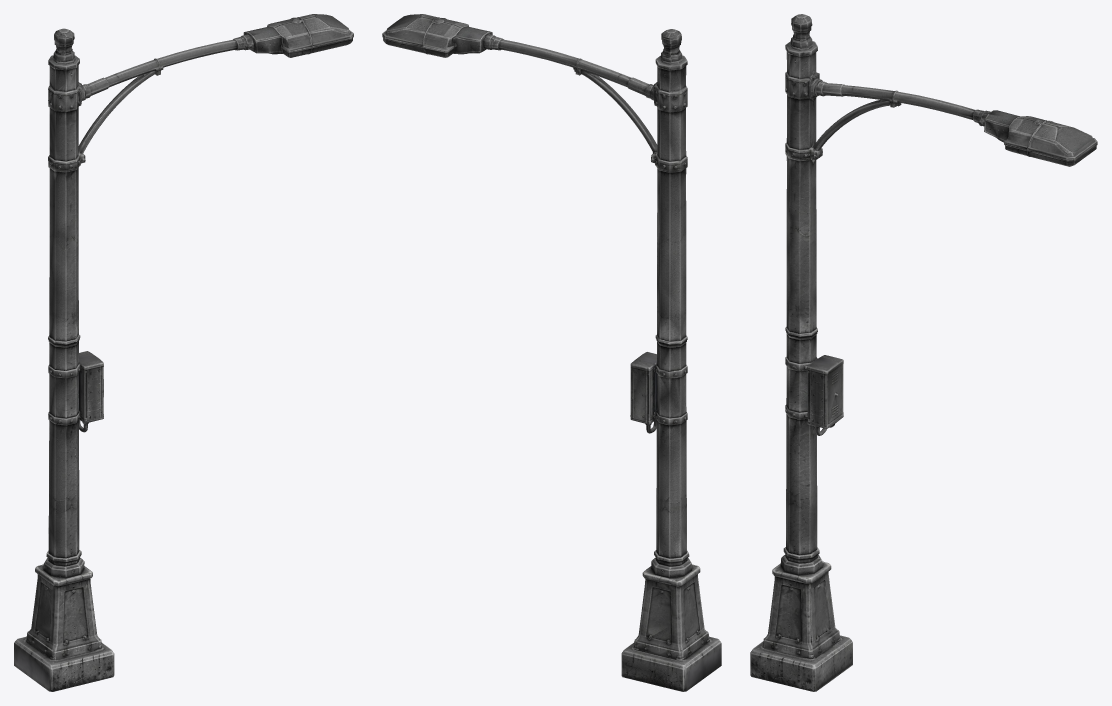
3 renders of one model, left to right at view 1: azimuth 30°, elevation 25°; view 2: azimuth 150°, elevation 25°; view 3: azimuth 330°, elevation 25°, orthographic. The views are drawn at different scales.
Parts seen in each view (by area): view 1: Vintage street lamp runtime; view 2: Vintage street lamp runtime; view 3: Vintage street lamp runtime.
Part boxes in pixels (x1,y1,x2,y2): Vintage street lamp runtime: (14, 14, 353, 691); Vintage street lamp runtime: (382, 14, 721, 691); Vintage street lamp runtime: (750, 14, 1097, 691).
Bounding box in the file's own units: 5.09 × 10 × 1.08.
1 material, 1 textured.
